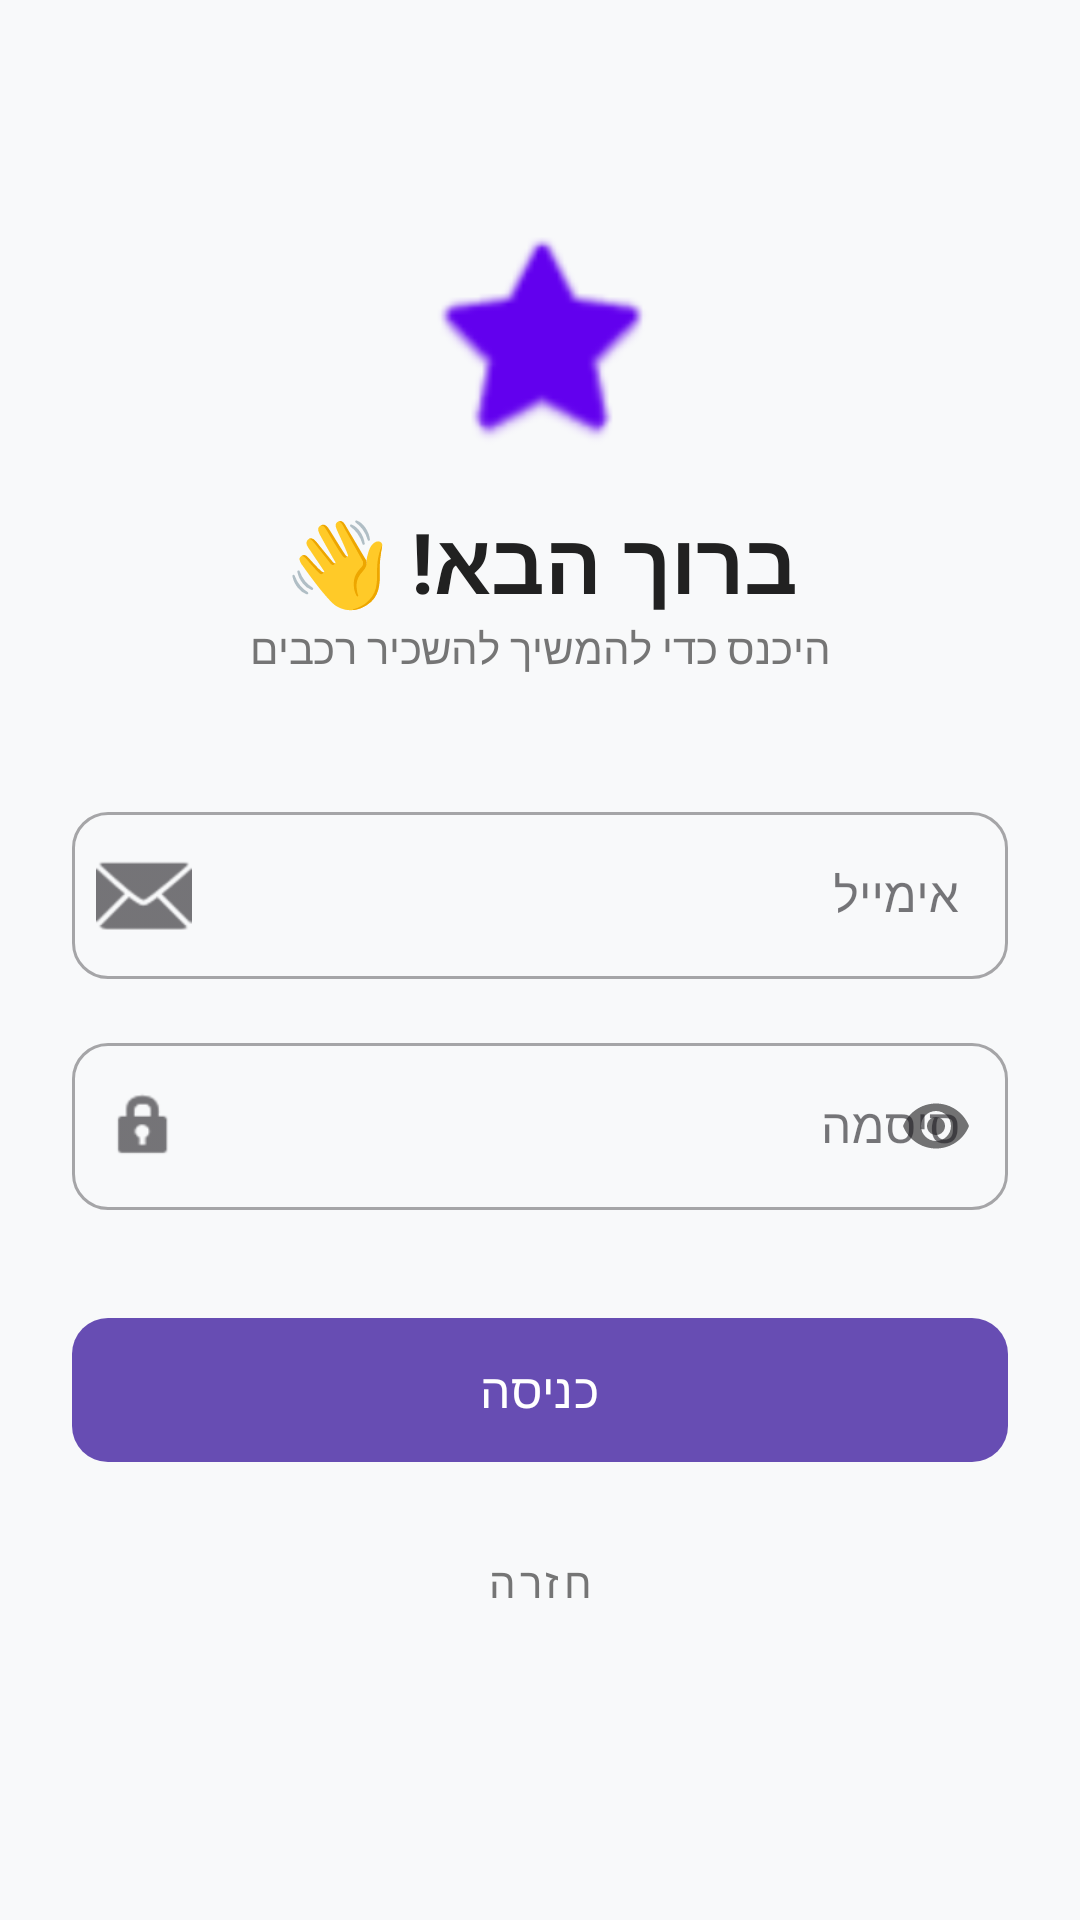

Screen size 1080w x 1920h. Icon name, then its center in pixels as (x,y):
star on: (541,338)
